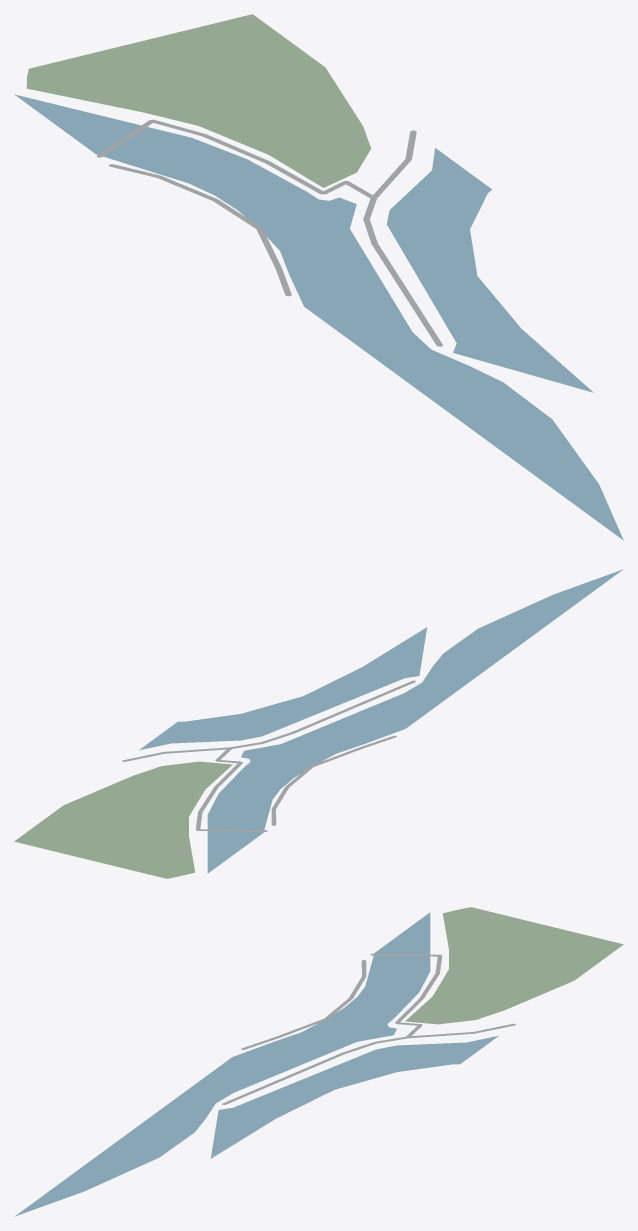
Rendered from -1_-2-known-coarse.glb.
The picture shows the model from 3 angles, top to bottom: view 1: azimuth 30°, elevation 25°; view 2: azimuth 150°, elevation 25°; view 3: azimuth 330°, elevation 25°; orthographic projection. The views are drawn at different scales.
Size of the model in its own units: 140 by 0.1 by 575.
